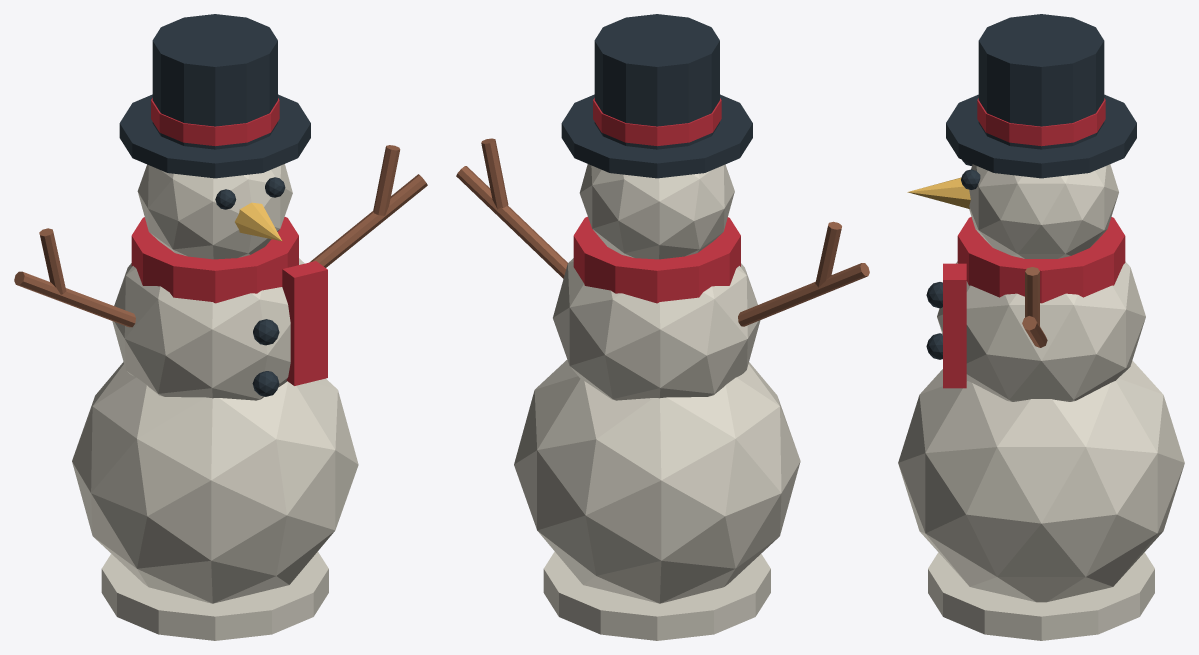
Rendered from snowman_b.glb.
3 renders of one model, left to right at view 1: azimuth 30°, elevation 25°; view 2: azimuth 150°, elevation 25°; view 3: azimuth 270°, elevation 25°, orthographic.
Visible parts, largest first — view 1: snowman; view 2: snowman; view 3: snowman.
Boxes of the visible parts, x1,y1,x2,y2 form: snowman: [14, 14, 427, 640]; snowman: [456, 14, 869, 640]; snowman: [898, 14, 1184, 640].
Bounding box in the file's own units: 1.59 × 2.04 × 0.96.
